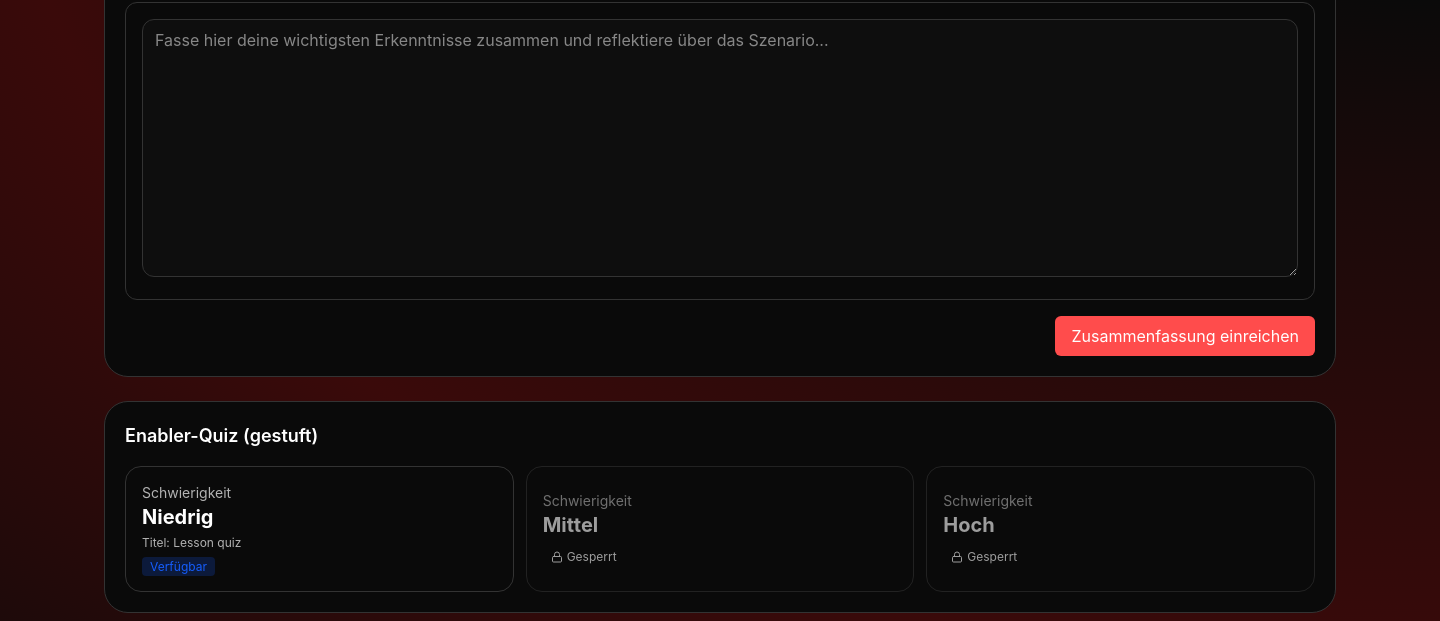
Test: lesson quiz on the enabler page › shows the reasoning of the submission only after the answers are submitted
Click the button "Schwierigkeit Niedrig Titel: Lesson quiz Verfügbar" at (187, 492), box [125,466,514,592]
(page scrolled)
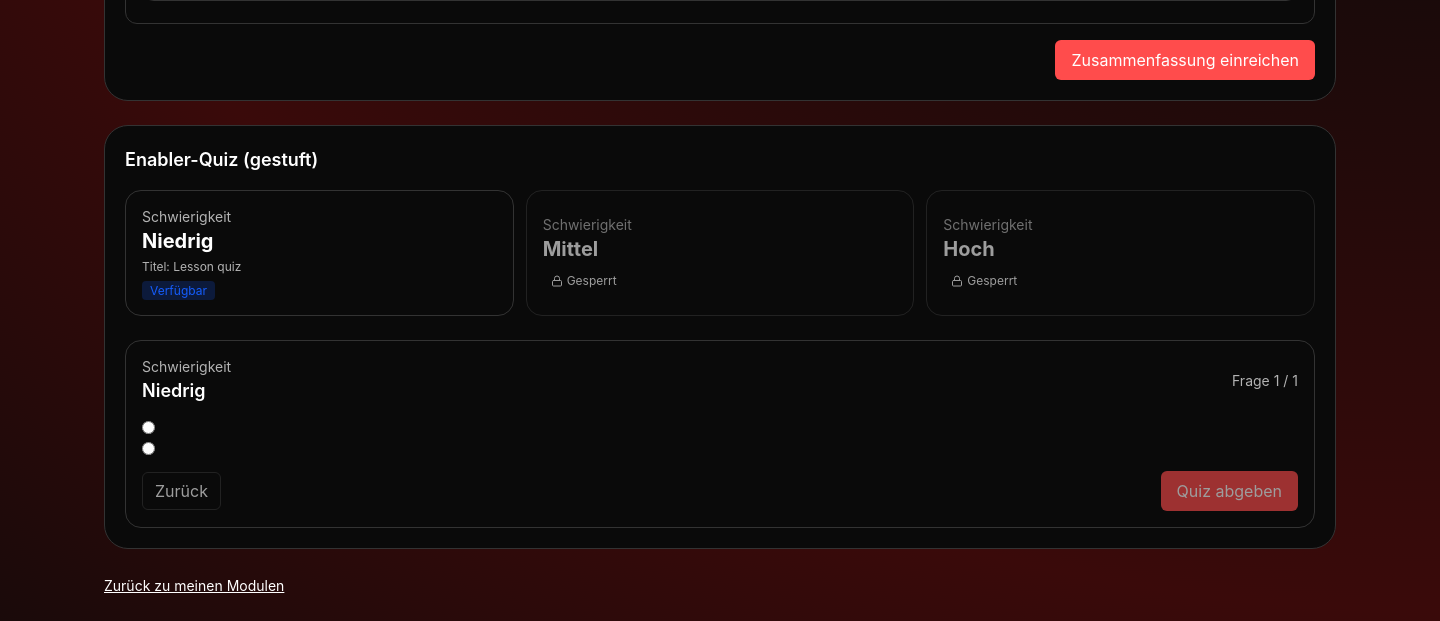
Check: the number of radio buttons is 2
Click the 2nd radio button at (148, 448), box [142,442,155,455]
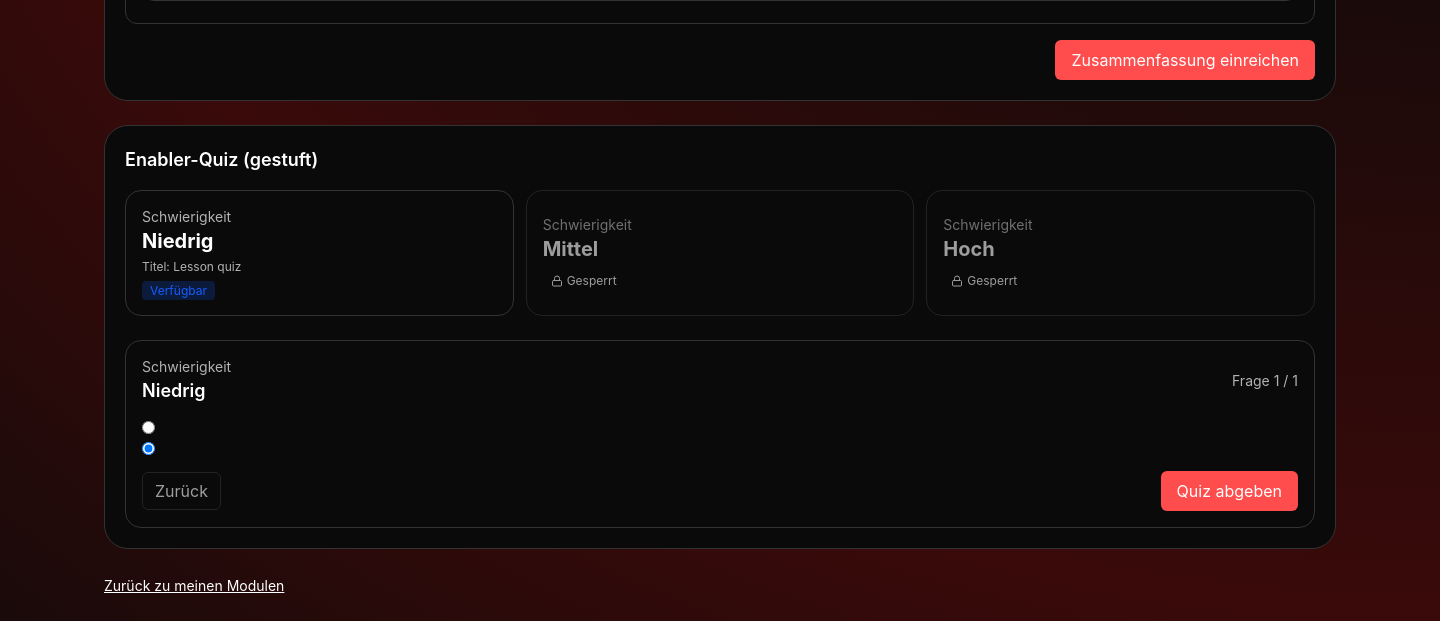
Click the button "Quiz abgeben" at (1229, 491), box [1161,471,1298,511]
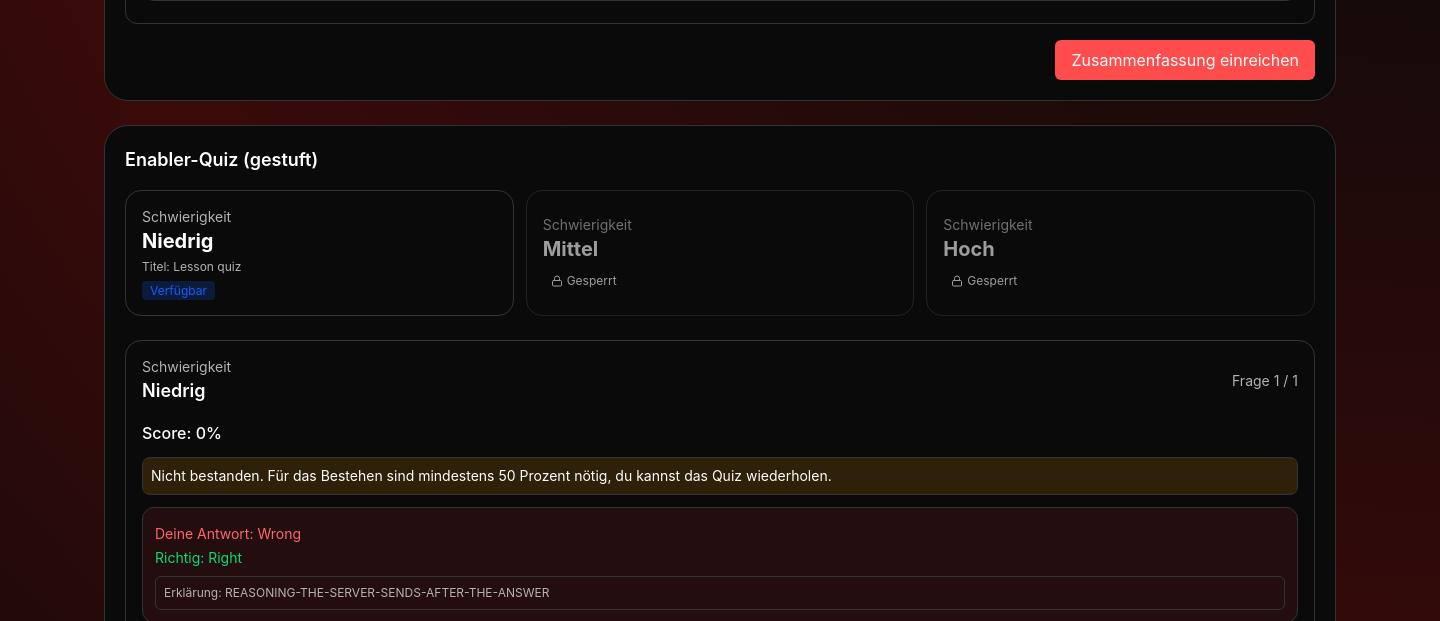
Check: the text "Erklärung: REASONING-THE-SERVER-SENDS-AFTER-THE-ANSWER" is shown, box [155,576,1285,610]
